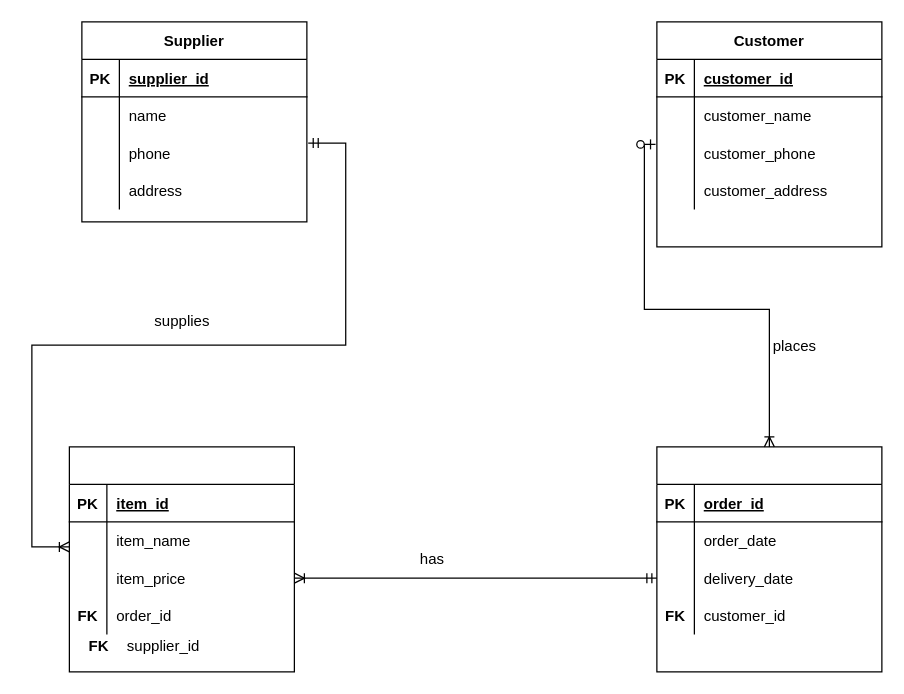
Some shapes in this 904 by 694 pixel diagram are drawn without their labels. The shapes that lost their labels are listed below. From the top down, each one's box as (x1, y1, x2, y2) in pixels, then its label:
(68, 446, 294, 672): Items
(656, 446, 882, 672): Orders
